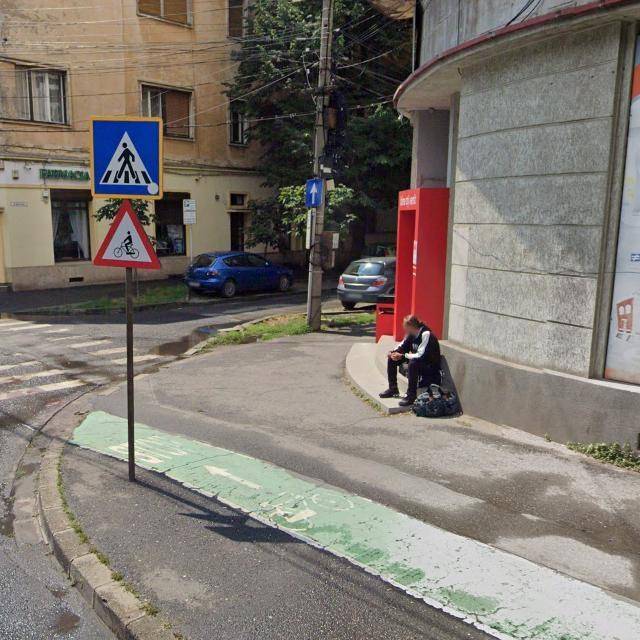info_crosswalk: (89, 115, 163, 199)
